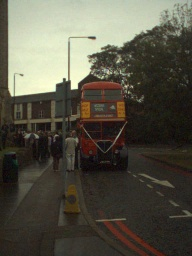bus: (78, 78, 131, 174)
